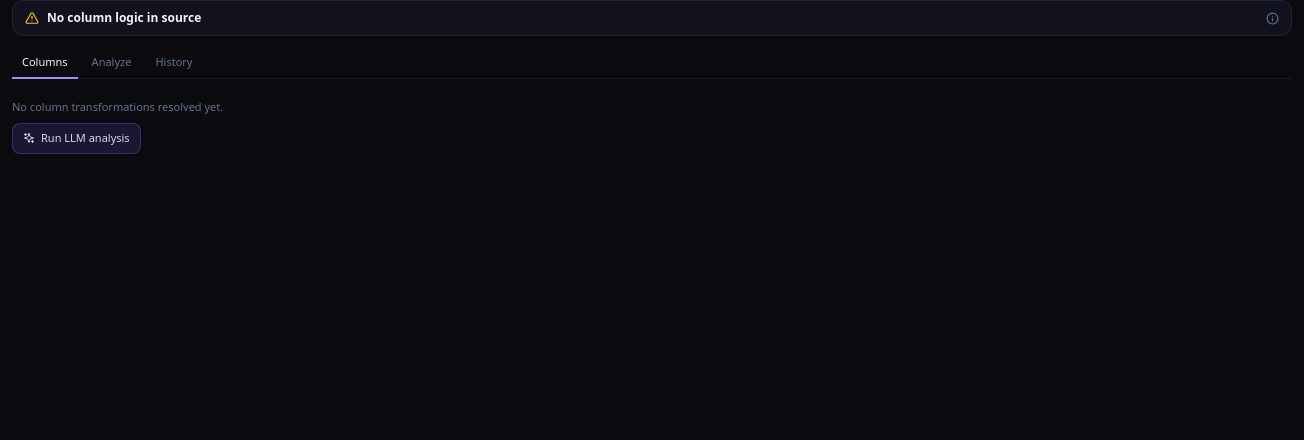
Test: ColumnTransformationPanel › falls back to a generic deep-analysis headline when no reason_code is sent
The image size is (1304, 440).
What coordinates should you click on to do the following:
click the tab "Analyze"
I would click on:
 (112, 63)
Its box is [82, 48, 141, 78].
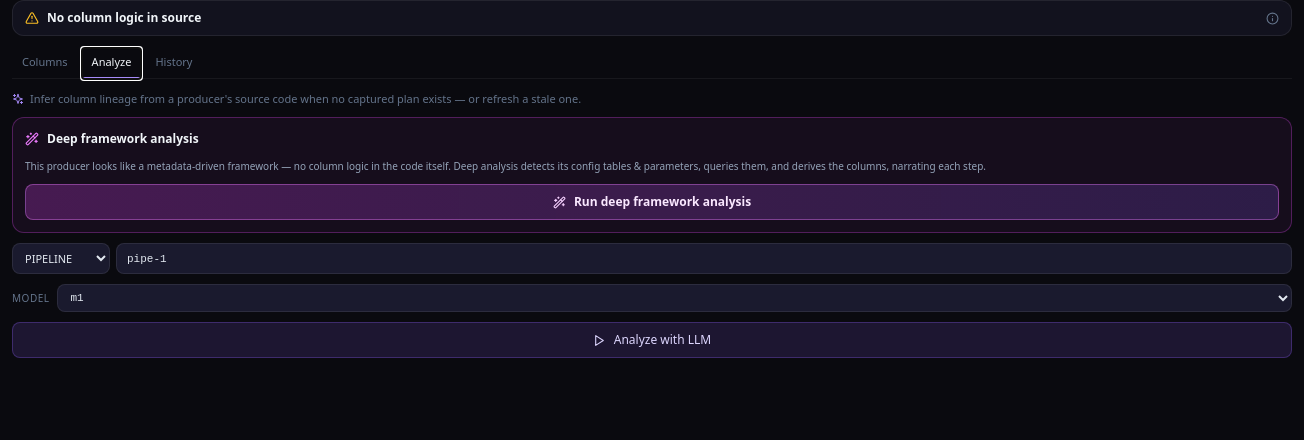
What coordinates should you click on to do the following:
click the button "Run deep framework analysis"
I would click on:
 (652, 202)
Its box is [25, 184, 1279, 220].
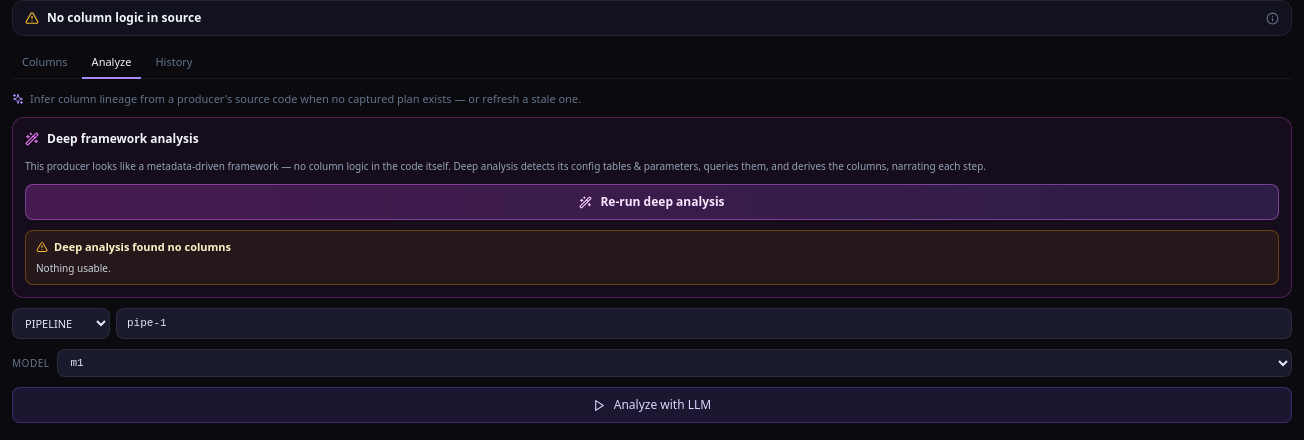
Now the text "Deep analysis found no columns" is shown, box [54, 239, 231, 256]
Now the text "Nothing usable." is shown, box [36, 261, 111, 275]
